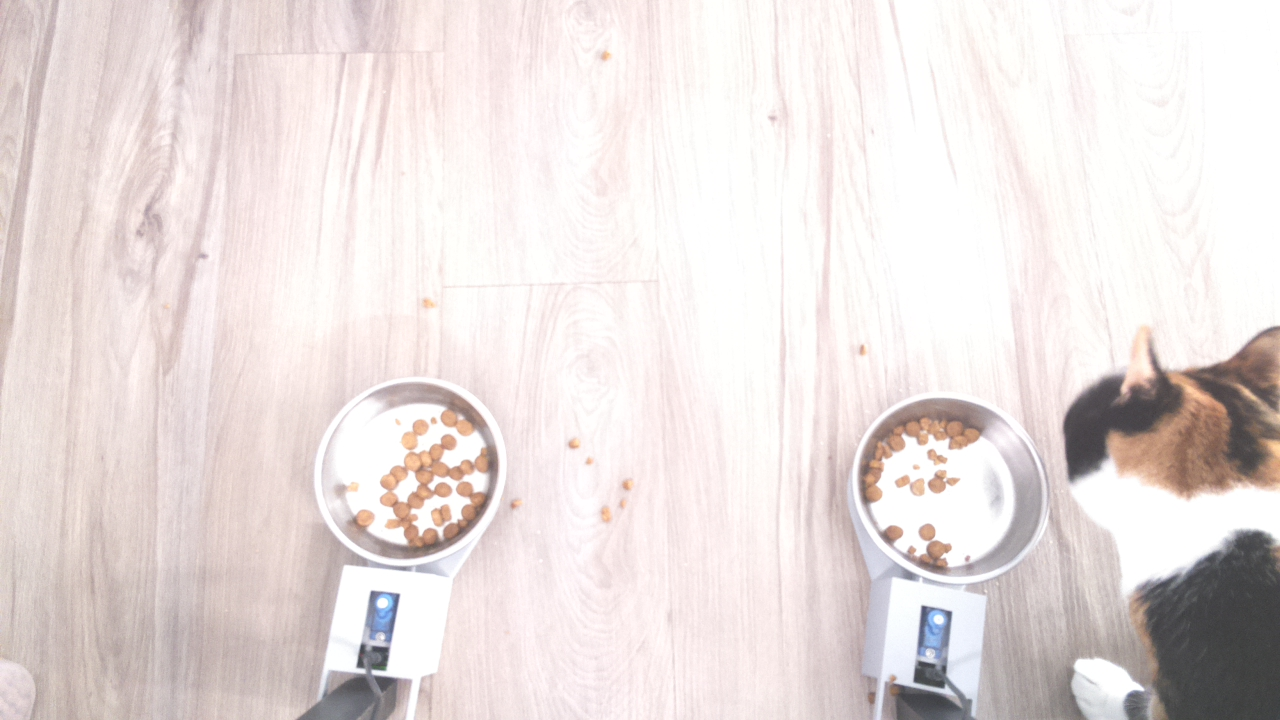bella: (1057, 320, 1280, 558)
open_bowl: (844, 392, 1056, 585), (307, 377, 515, 572)
